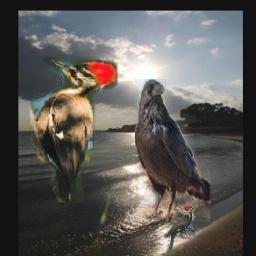Crow: (135, 79, 210, 221)
Woodpecker: (26, 58, 117, 203), (164, 204, 199, 254)
